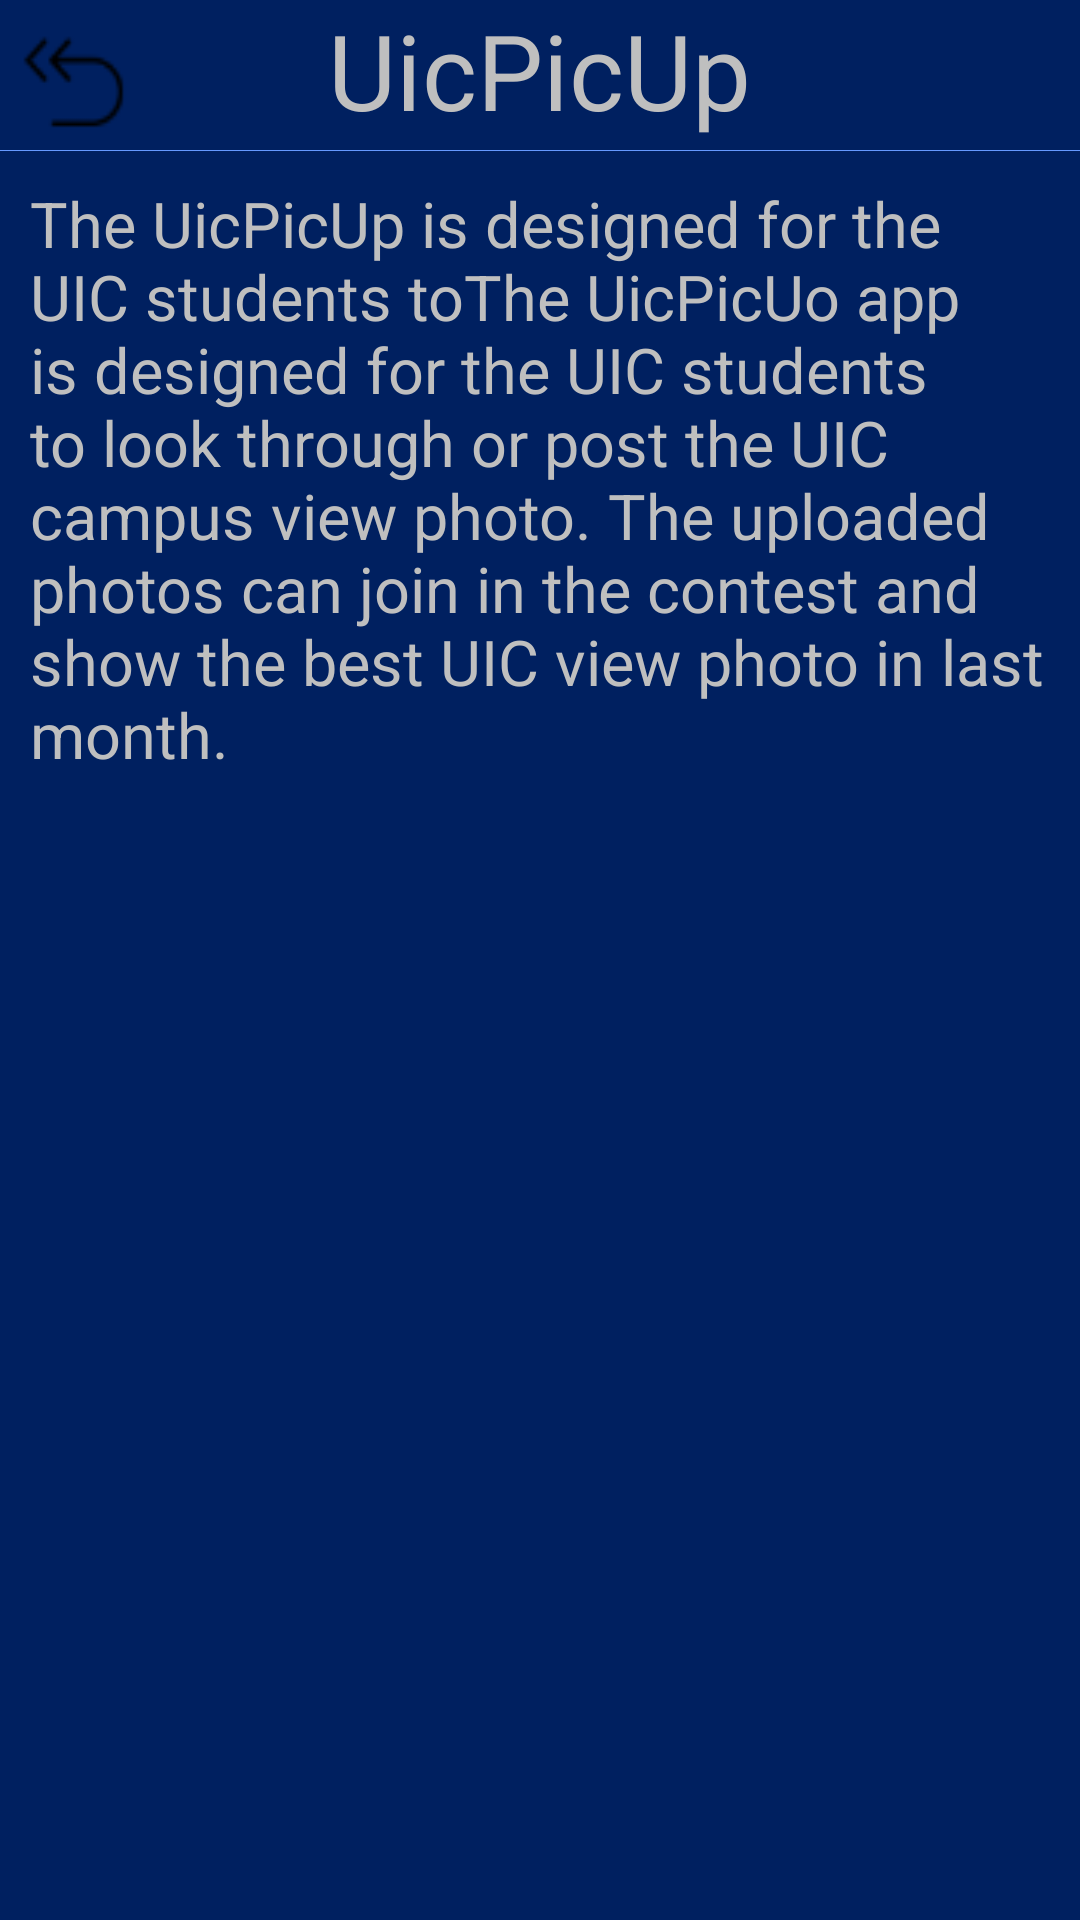

Point at icon controls on the screen. Image size 1080px×1920px, points as [x,y].
back: [73,82]
